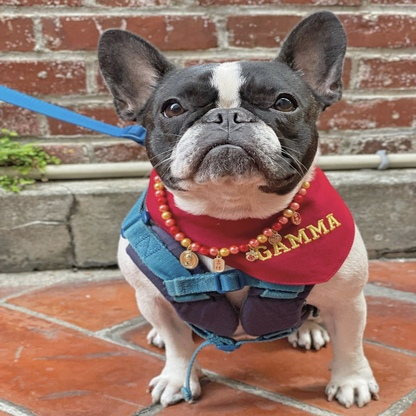bulldog: (96, 9, 383, 410)
